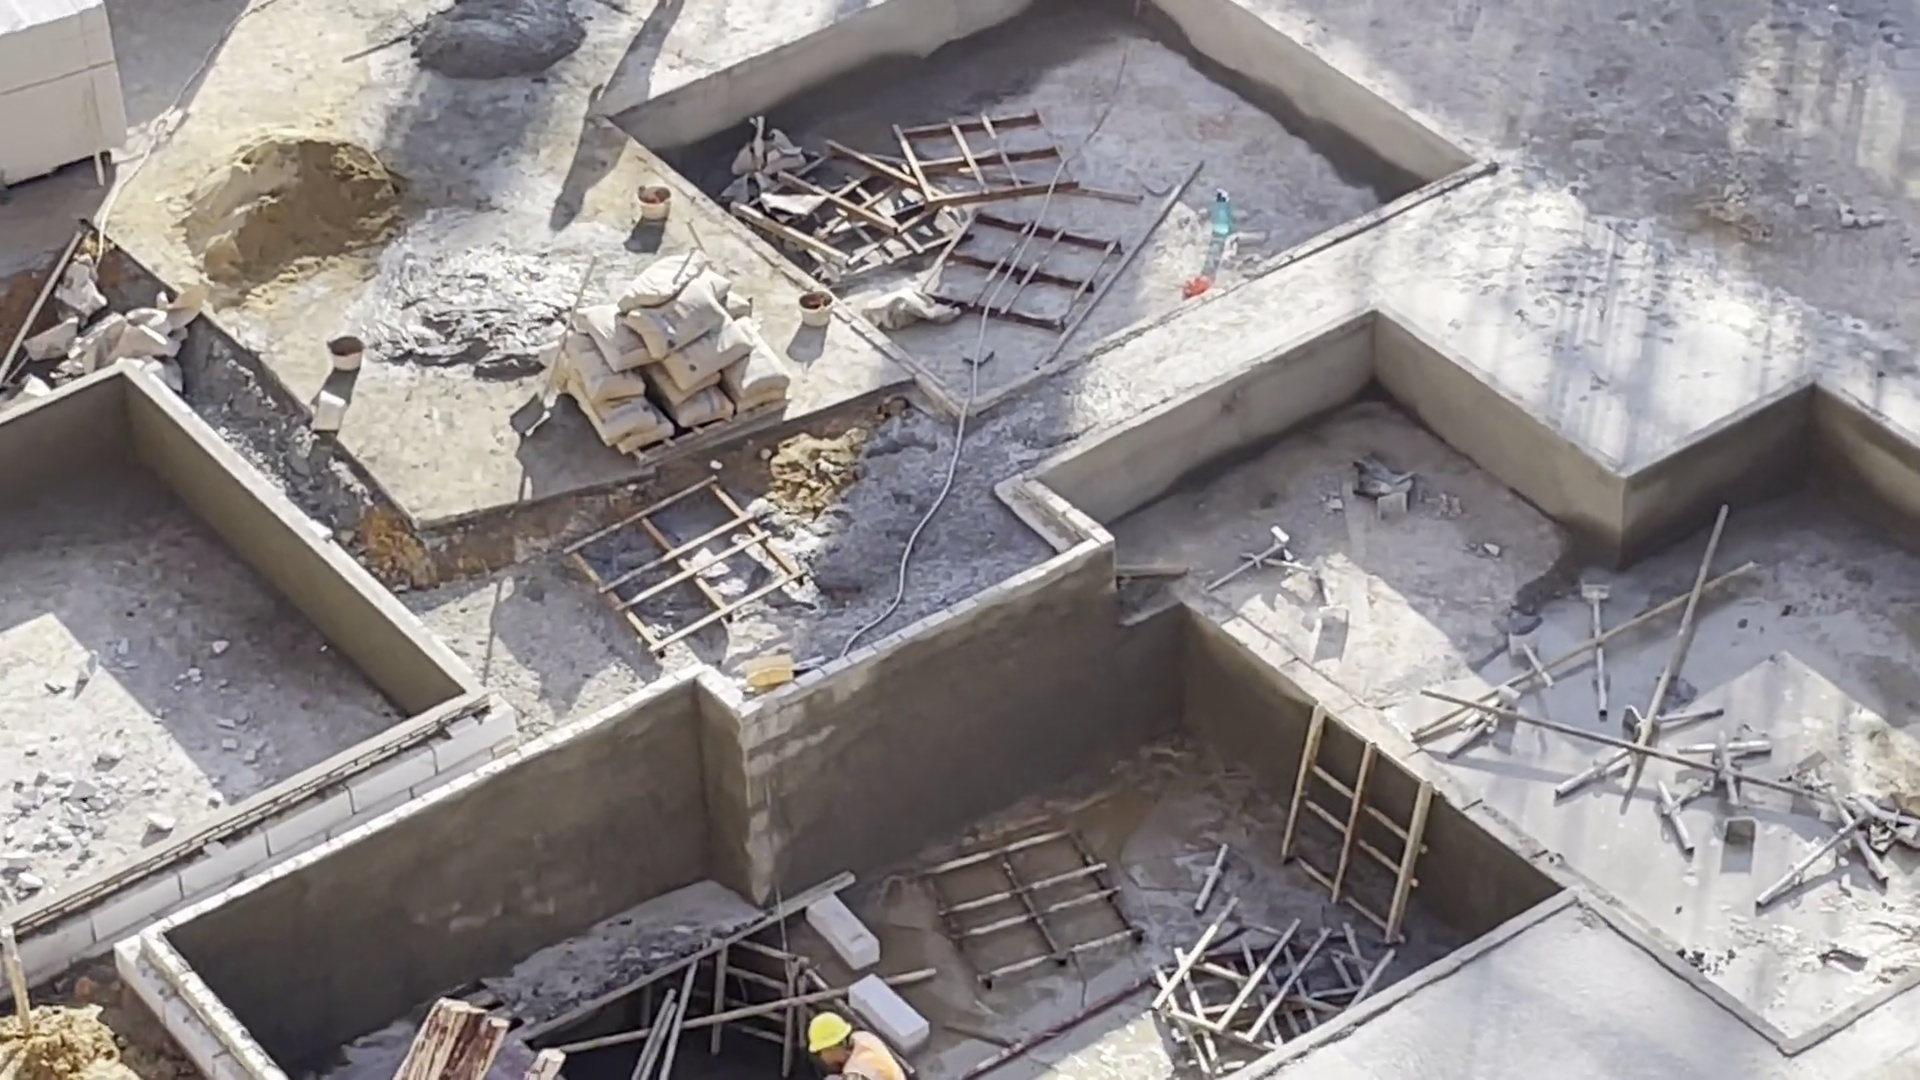helmet: (809, 1008, 848, 1046)
person: (778, 1008, 934, 1080)
vest: (833, 1039, 898, 1080)
